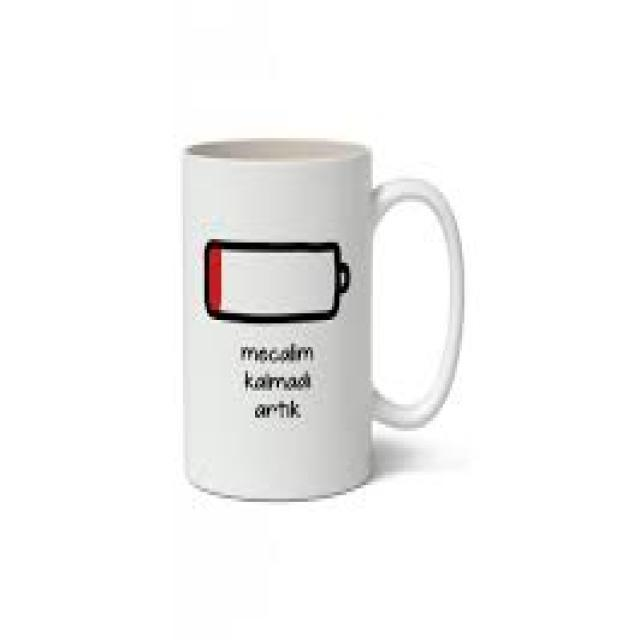taza: (182, 136, 466, 498)
